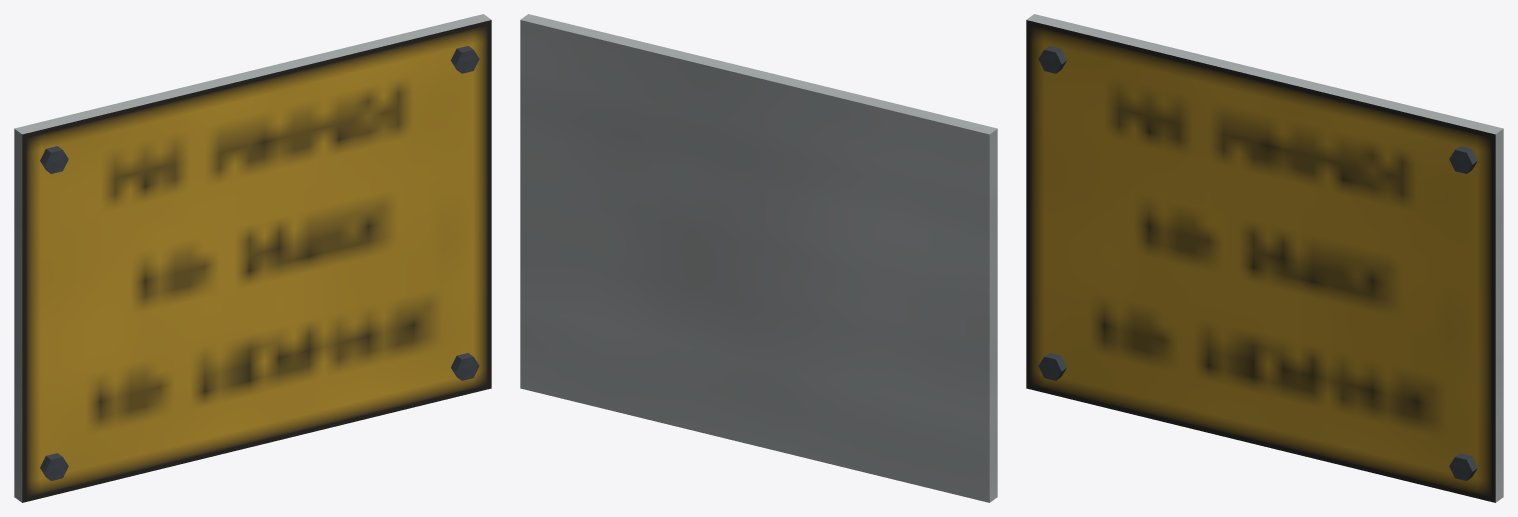
The model's file is sign_contraband.fbx.
3 renders of one model, left to right at view 1: azimuth 30°, elevation 25°; view 2: azimuth 150°, elevation 25°; view 3: azimuth 330°, elevation 25°, orthographic.
Parts seen in each view (by area): view 1: sign_contraband; view 2: sign_contraband; view 3: sign_contraband.
Boxes of the visible parts, x1,y1,x2,y2 form: sign_contraband: (14, 14, 491, 502); sign_contraband: (520, 14, 997, 502); sign_contraband: (1026, 14, 1503, 502).
Bounding box in the file's own units: 0.4 × 0.3 × 0.02.
Materials: 1 (1 with a texture image).
